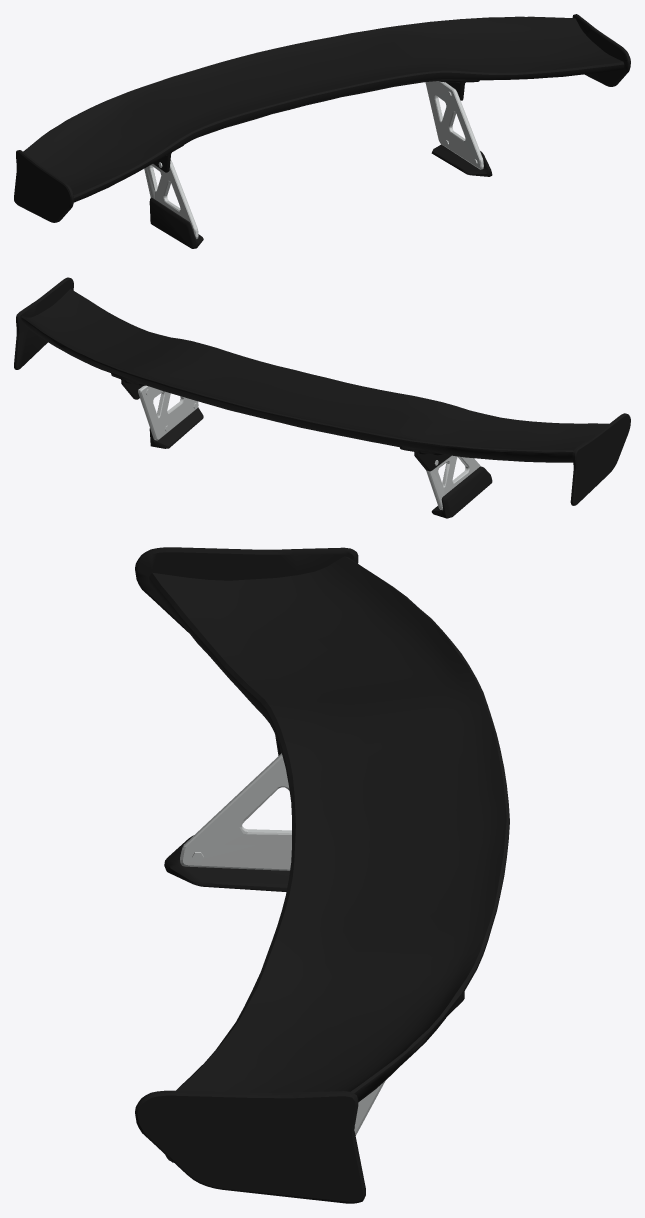
The model's file is Spoiler_V10_01.fbx.
3 views of the same model, one above another, from view 1: azimuth 30°, elevation 25°; view 2: azimuth 150°, elevation 25°; view 3: azimuth 270°, elevation 25° (orthographic). The views are drawn at different scales.
Visible parts, largest first — view 1: Spoiler_V10_01_LOD0; view 2: Spoiler_V10_01_LOD0; view 3: Spoiler_V10_01_LOD0.
Part boxes in pixels (box(x1,y1,x2,y2)): Spoiler_V10_01_LOD0: box(14, 14, 630, 248); Spoiler_V10_01_LOD0: box(14, 277, 630, 518); Spoiler_V10_01_LOD0: box(135, 547, 509, 1203).
Size of what is drawn, in the model's own units: 301 by 53.05 by 87.09.
